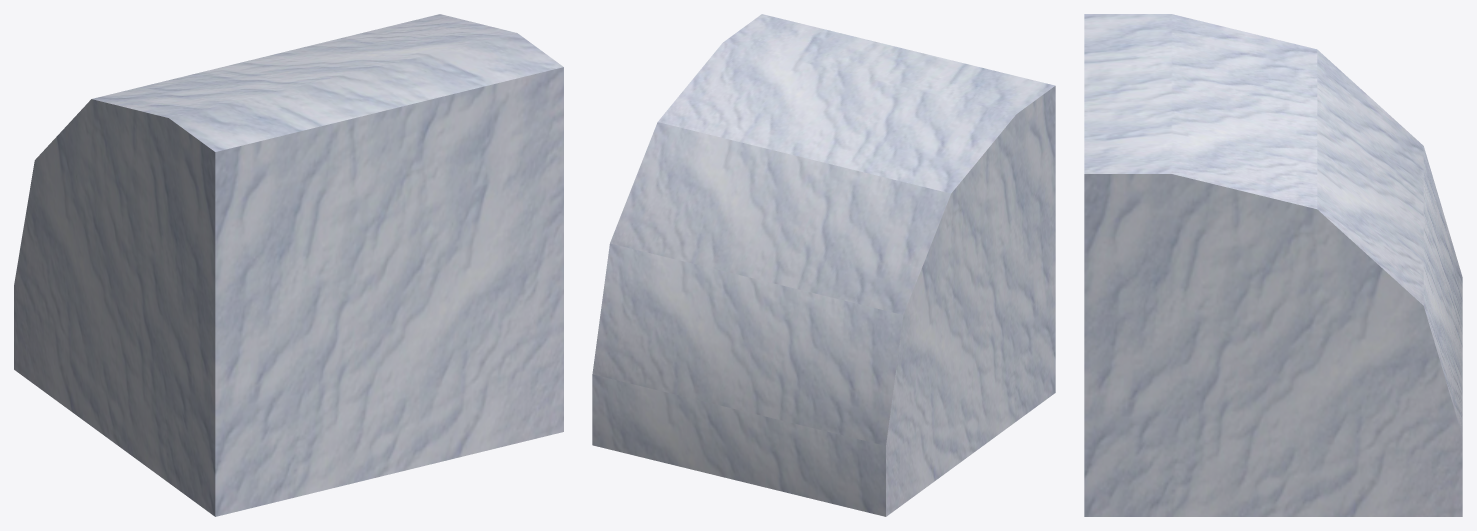
Rendered from POL0410015.fbx.
3 renders of one model, left to right at view 1: azimuth 30°, elevation 25°; view 2: azimuth 150°, elevation 25°; view 3: azimuth 270°, elevation 25°, orthographic. The views are drawn at different scales.
Visible parts, largest first — view 1: smPOL0410015; view 2: smPOL0410015; view 3: smPOL0410015.
Boxes of the visible parts, box(x1,y1,x2,y2) form: smPOL0410015: box(14, 14, 563, 516); smPOL0410015: box(592, 14, 1055, 516); smPOL0410015: box(1084, 14, 1462, 516).
Size of the model in its own units: 161 by 161 by 161.
1 material, 1 textured.
